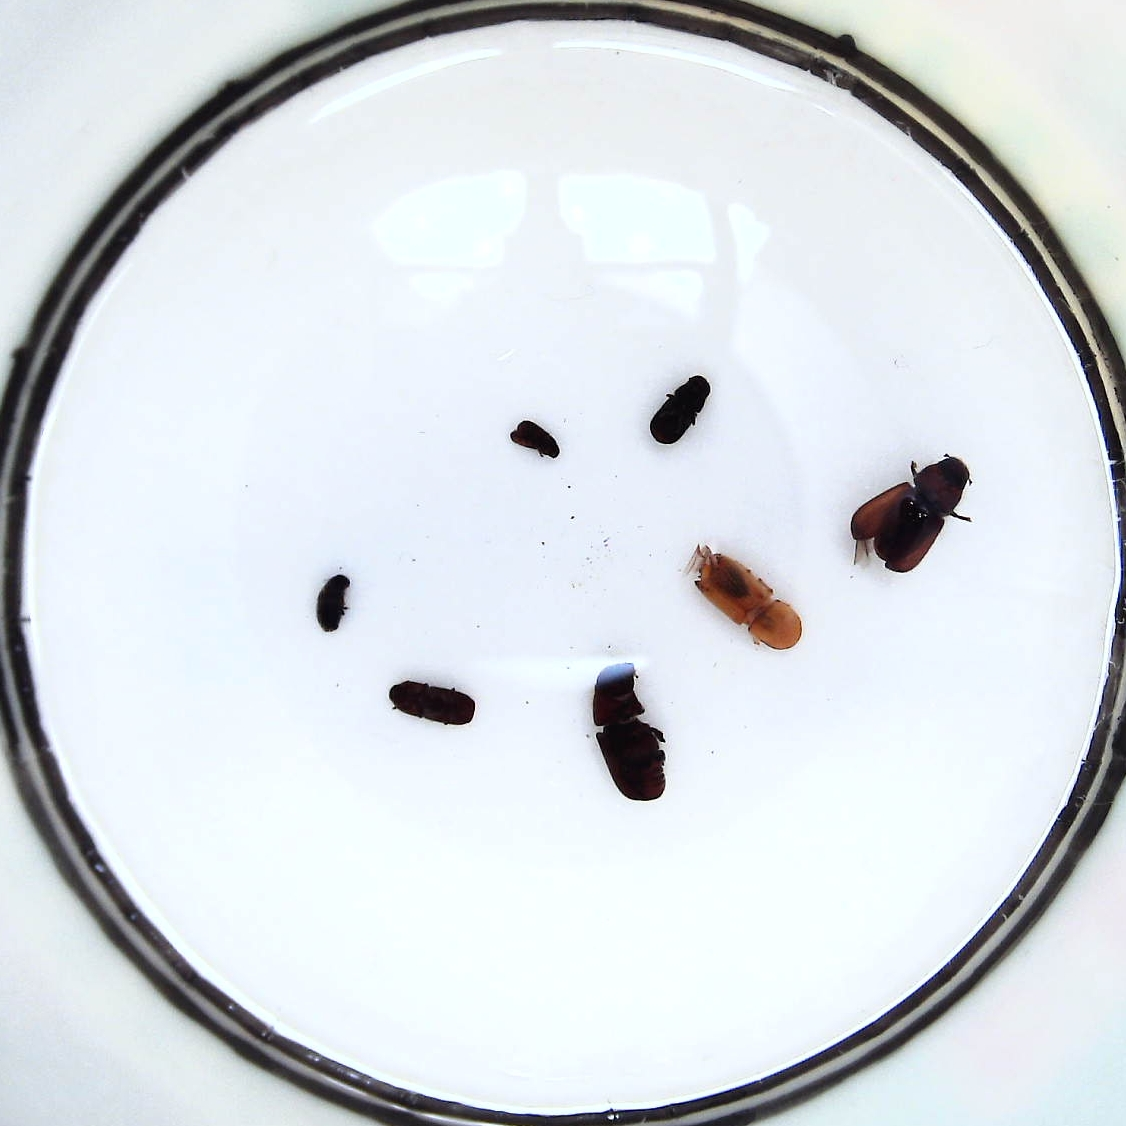Boerner: (692, 547, 803, 651)
Leconte: (851, 451, 972, 573), (591, 661, 667, 799)
acuminatus: (316, 573, 350, 632)
armandi: (650, 376, 710, 444), (389, 678, 476, 724)
coleoptera: (509, 420, 559, 459)
